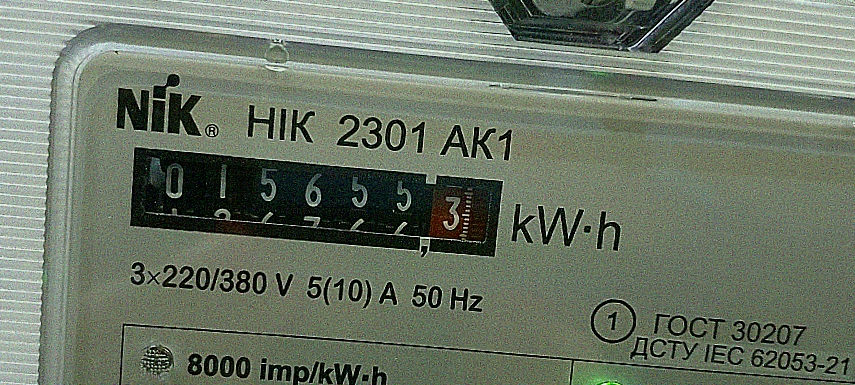0: (159, 158, 188, 201)
1: (211, 161, 233, 201)
3: (439, 193, 462, 231)
5: (253, 166, 280, 203), (346, 175, 372, 209), (393, 179, 414, 213)
6: (300, 170, 326, 208)
screen: (112, 130, 517, 273)
